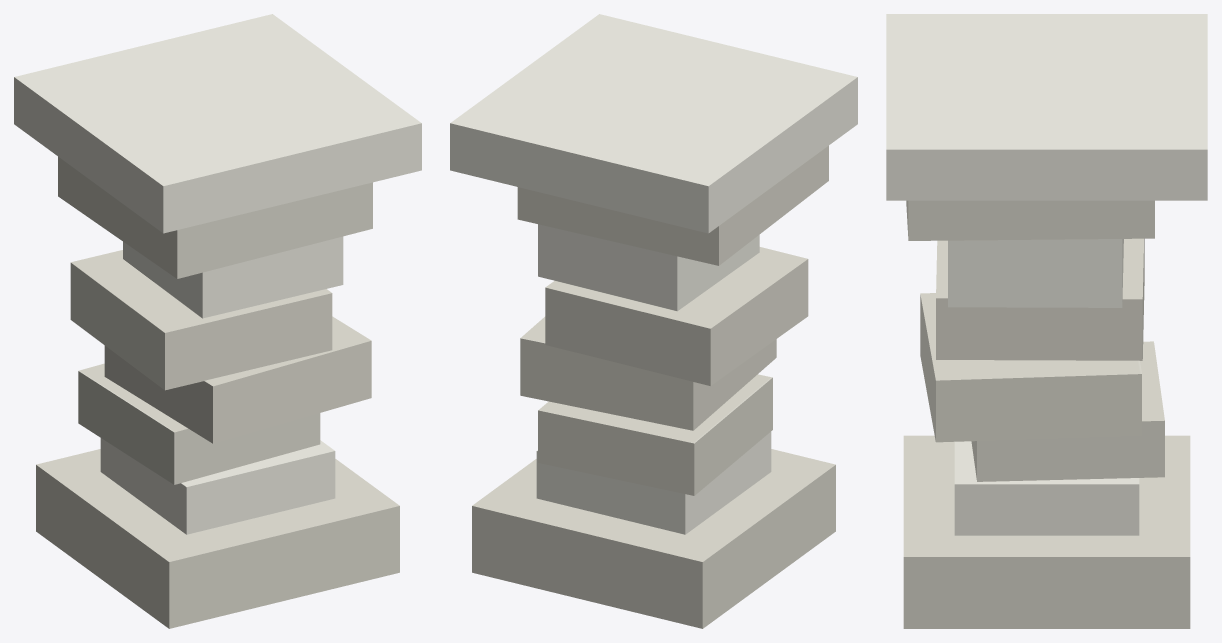
The model's file is pillarSlabs2.glb.
3 renders of one model, left to right at view 1: azimuth 30°, elevation 25°; view 2: azimuth 150°, elevation 25°; view 3: azimuth 270°, elevation 25°, orthographic. The views are drawn at different scales.
Visible parts, largest first — view 1: pillarSlabs2; view 2: pillarSlabs2; view 3: pillarSlabs2.
Boxes of the visible parts, bbox=[...] form: pillarSlabs2: bbox=[14, 14, 421, 628]; pillarSlabs2: bbox=[450, 14, 857, 628]; pillarSlabs2: bbox=[886, 14, 1207, 628].
Bounding box in the file's own units: 0.5335 × 0.8914 × 0.5335.
Materials: 1 (1 with a texture image).
